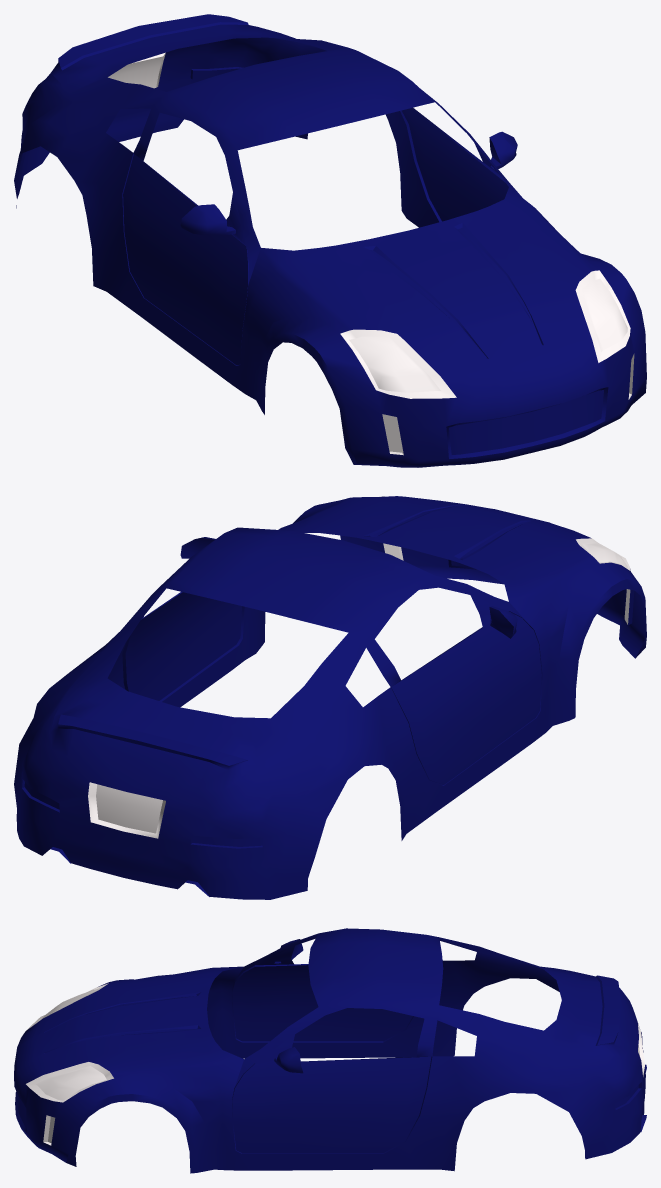
File: carbody.fbx
3 renders of one model, top to bottom at view 1: azimuth 30°, elevation 25°; view 2: azimuth 150°, elevation 25°; view 3: azimuth 270°, elevation 25°, orthographic. The views are drawn at different scales.
Visible parts, largest first — view 1: Cube, Cube.002, Cube.001, Cube.005; view 2: Cube, Cube.005, Cube.002; view 3: Cube, Cube.001, Cube.002.
Boxes of the visible parts, x1=… form: Cube: x1=14, y1=14, x2=646, y2=467; Cube.002: x1=340, y1=329, x2=456, y2=398; Cube.001: x1=575, y1=270, x2=630, y2=362; Cube.005: x1=108, y1=52, x2=165, y2=88; Cube: x1=14, y1=496, x2=646, y2=899; Cube.005: x1=88, y1=782, x2=165, y2=838; Cube.002: x1=576, y1=538, x2=630, y2=570; Cube: x1=14, y1=928, x2=646, y2=1173; Cube.001: x1=26, y1=1062, x2=113, y2=1102; Cube.002: x1=26, y1=983, x2=108, y2=1030.
Bounding box in the file's own units: 884 × 522 × 1906.
